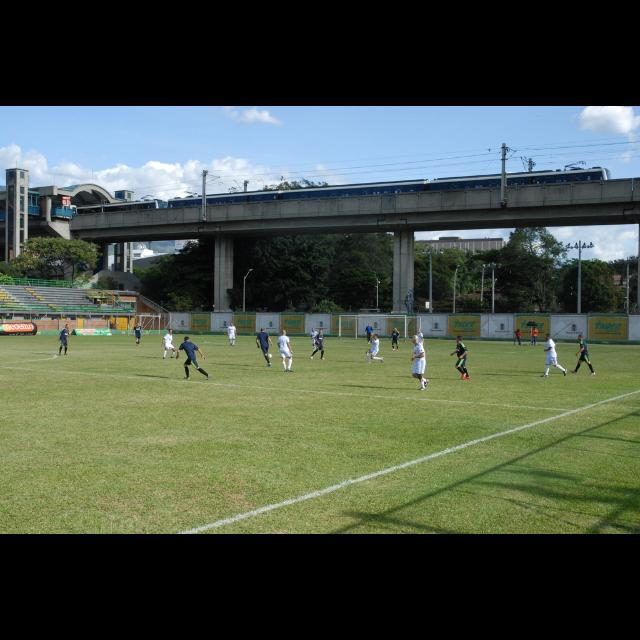Football: (266, 352, 270, 358)
